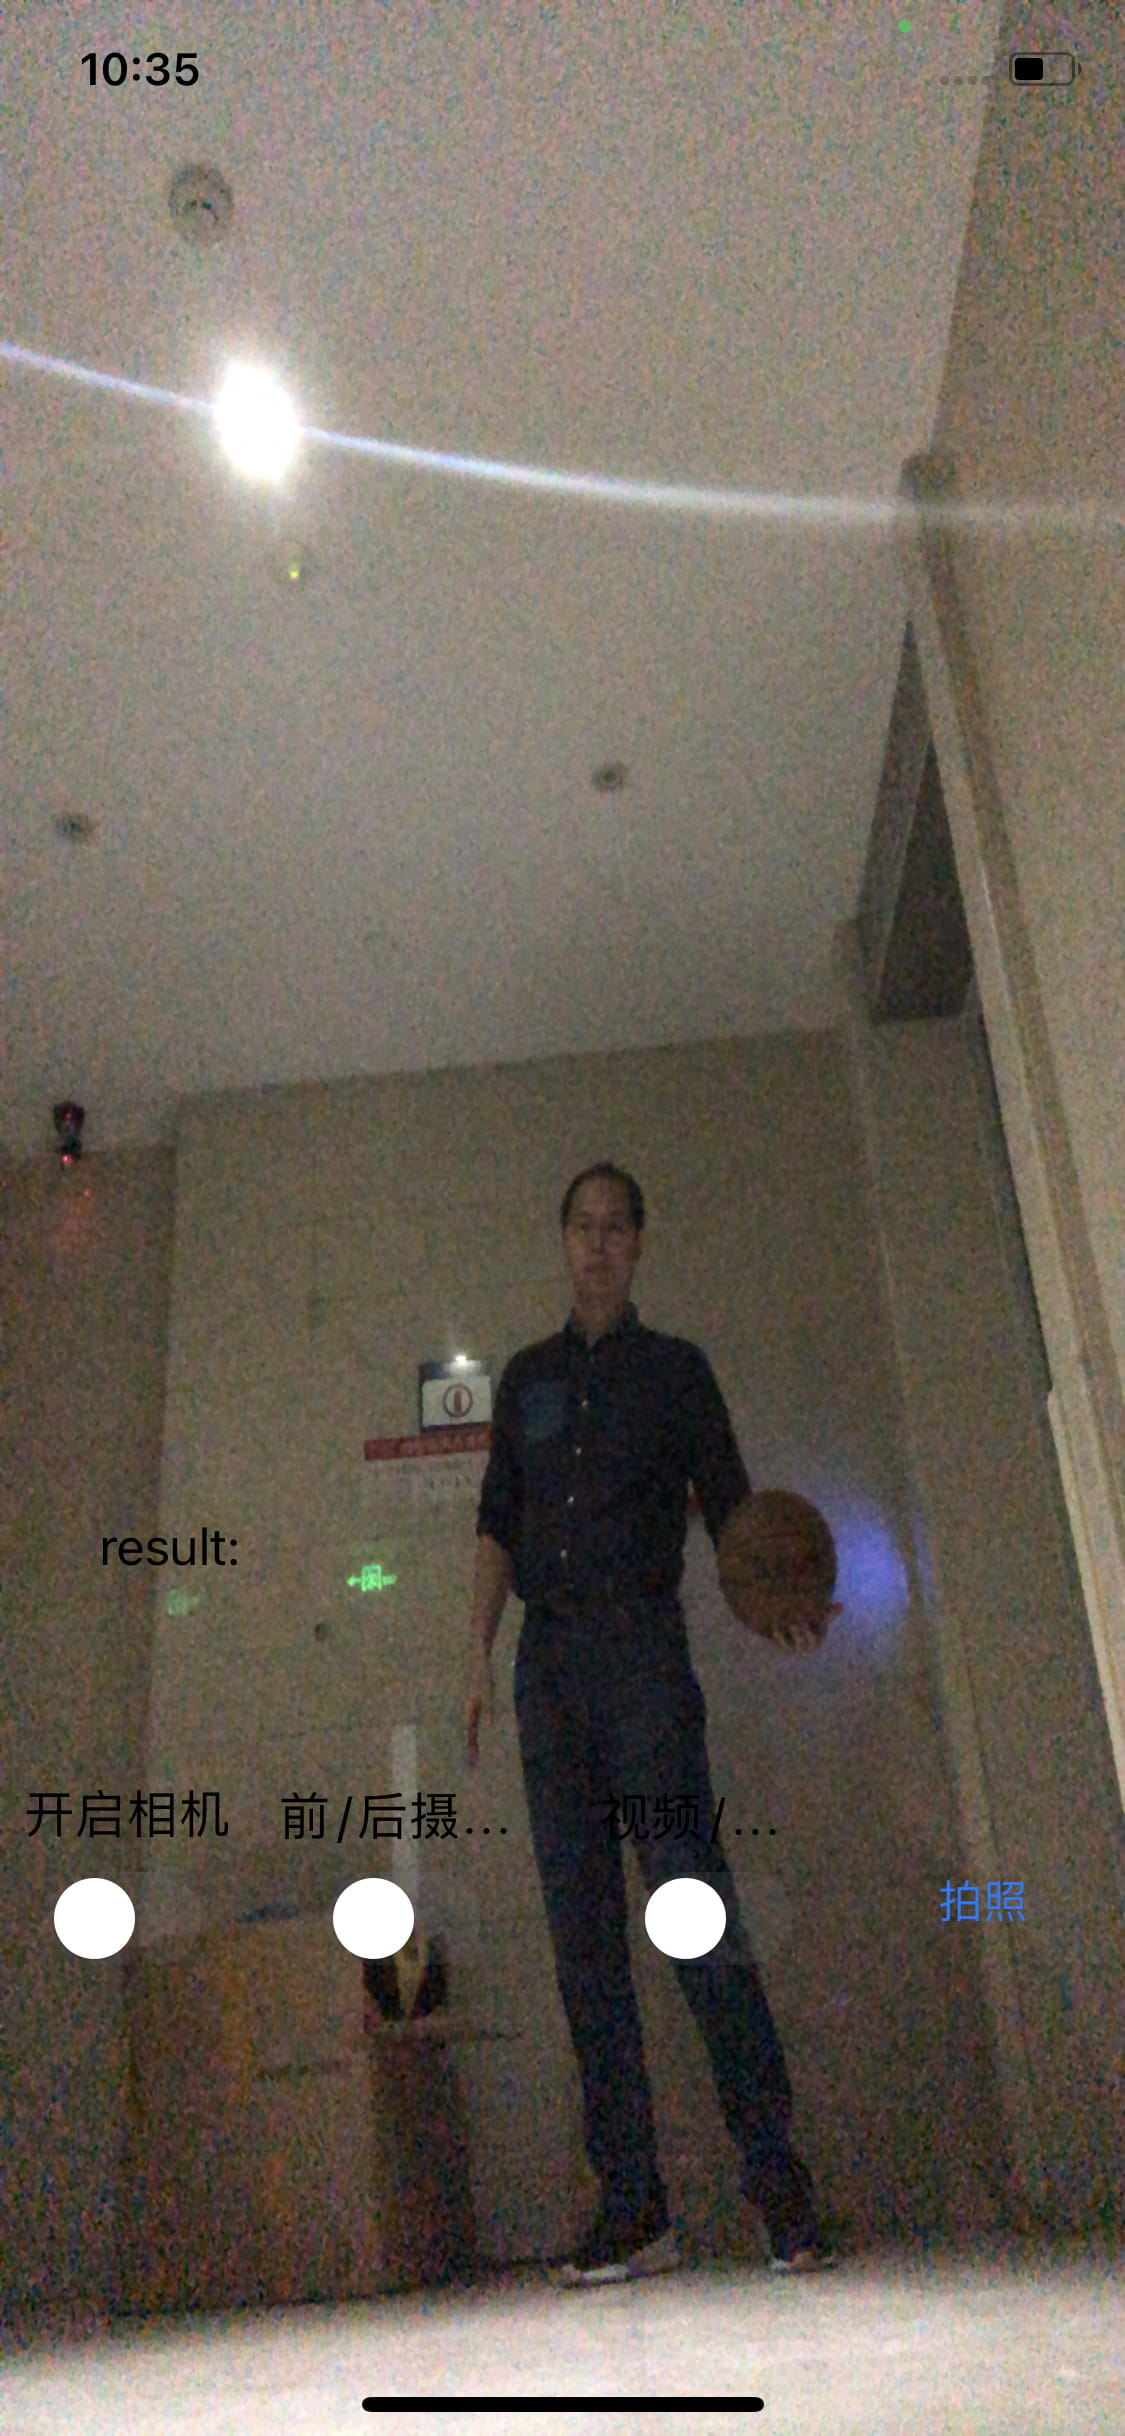ball: (719, 1487, 845, 1644)
